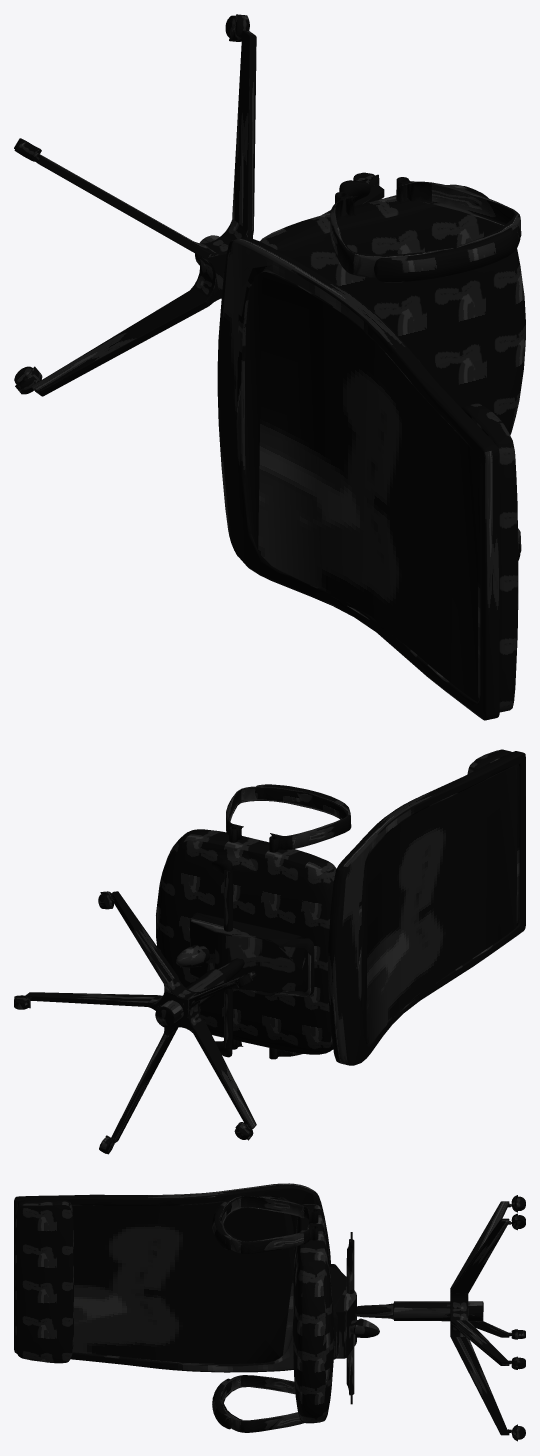
Rendered from swivel_chair-fieiyo-0.obj.
The picture shows the model from 3 angles, top to bottom: view 1: azimuth 30°, elevation 25°; view 2: azimuth 150°, elevation 25°; view 3: azimuth 270°, elevation 25°; orthographic projection. The views are drawn at different scales.
Size of the model in its own units: 0.6038 by 0.6347 by 1.3.
1 material, 1 textured.
